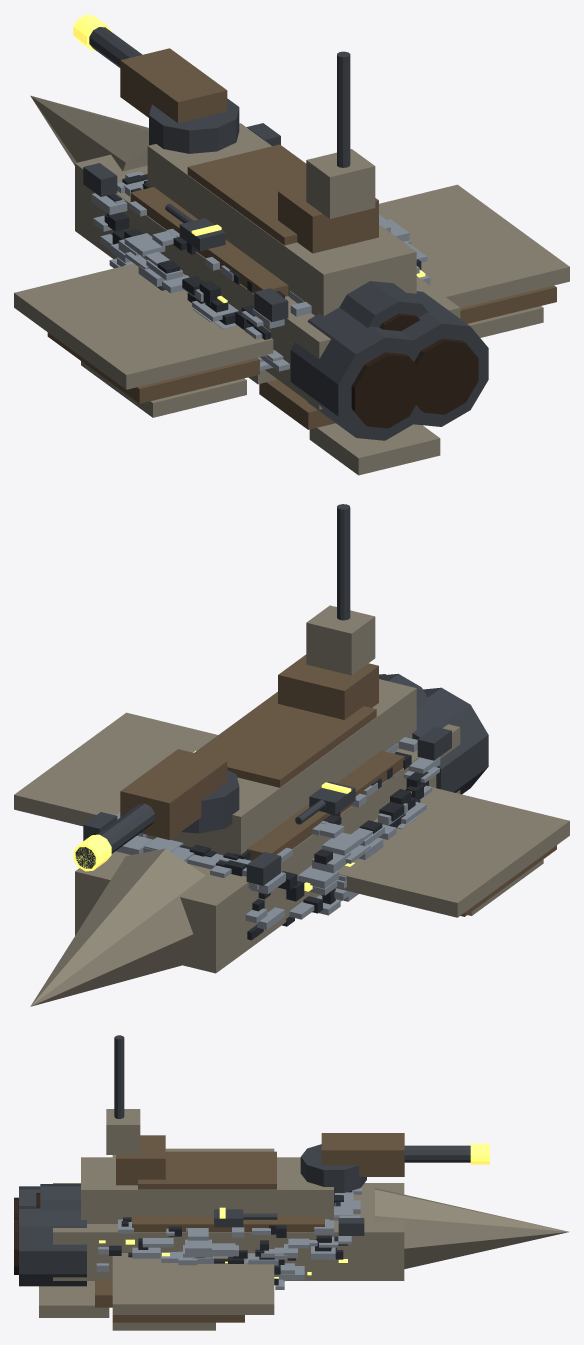
File: plektor_cruiser.glb
The picture shows the model from 3 angles, top to bottom: view 1: azimuth 30°, elevation 25°; view 2: azimuth 150°, elevation 25°; view 3: azimuth 270°, elevation 25°; orthographic projection. The views are drawn at different scales.
Visible parts, largest first — view 1: hull, engines, turret_0, aux_0, pd_0, pd_2; view 2: hull, turret_0, engines, aux_0, pd_0, pd_2; view 3: hull, turret_0, engines, aux_1, pd_1.
Boxes of the visible parts, left/top/right/bottom form: hull: left=14, top=51, right=569, bottom=475; engines: left=290, top=281, right=488, bottom=440; turret_0: left=73, top=14, right=239, bottom=153; aux_0: left=165, top=204, right=225, bottom=251; pd_0: left=83, top=163, right=117, bottom=196; pd_2: left=254, top=288, right=288, bottom=321; hull: left=14, top=504, right=569, bottom=1006; turret_0: left=73, top=749, right=239, bottom=871; engines: left=379, top=673, right=488, bottom=794; aux_0: left=295, top=782, right=355, bottom=824; pd_0: left=246, top=852, right=280, bottom=885; pd_2: left=417, top=726, right=451, bottom=760; hull: left=39, top=1035, right=569, bottom=1330; turret_0: left=300, top=1133, right=489, bottom=1192; engines: left=14, top=1184, right=86, bottom=1286; aux_1: left=214, top=1207, right=277, bottom=1227; pd_1: left=338, top=1218, right=364, bottom=1235.
Size of the model in its own units: 74.75 by 59.6 by 113.
